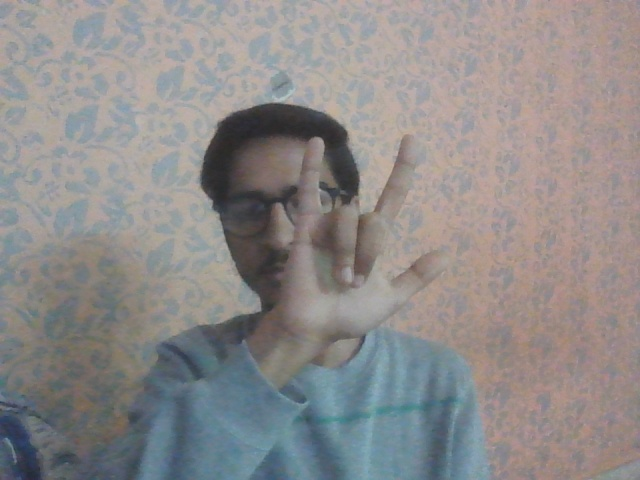ILoveYou: (268, 129, 453, 348)
